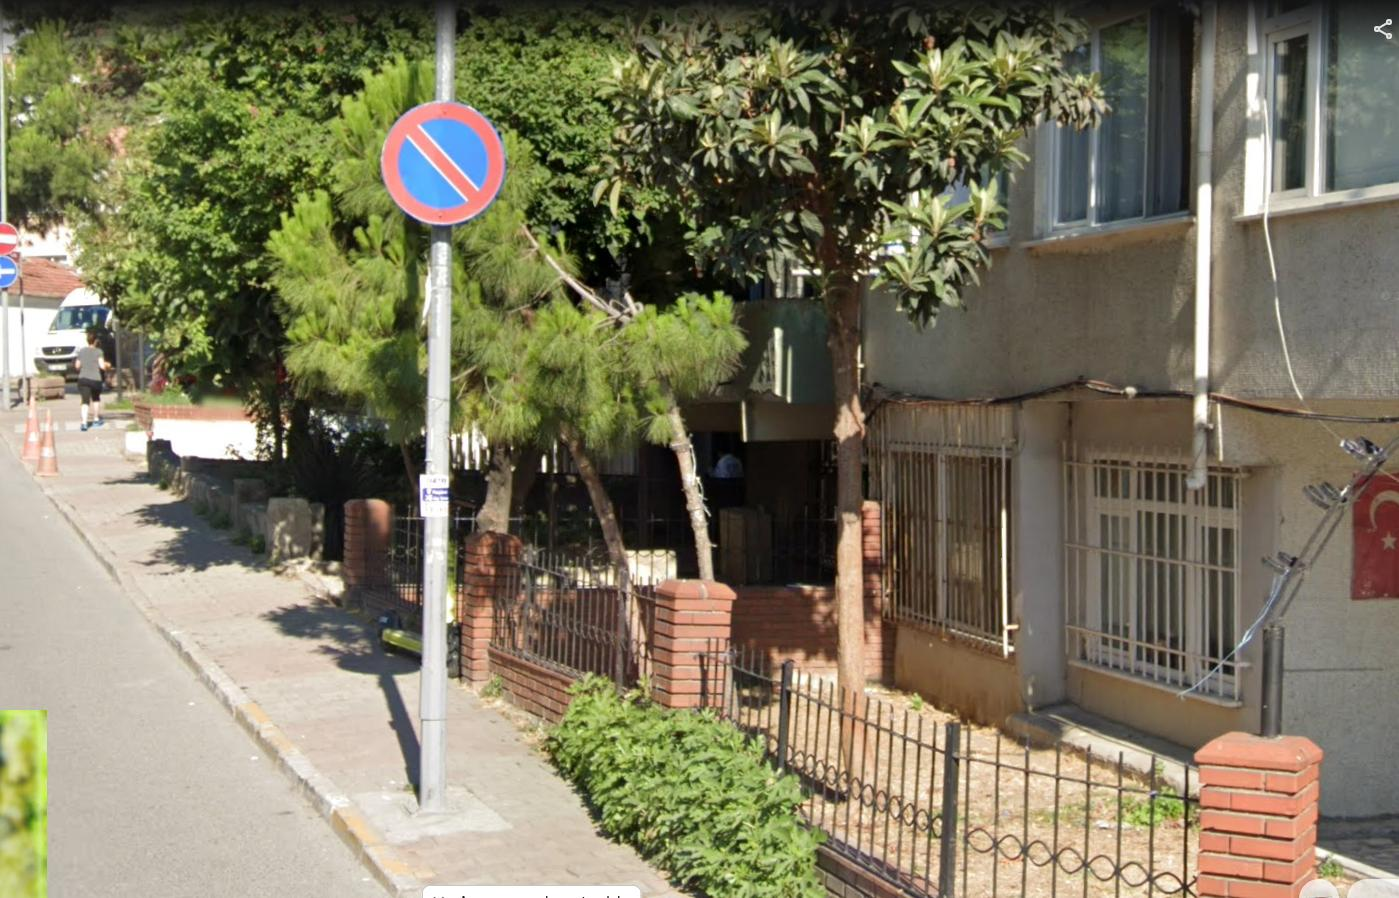nopark: (382, 102, 501, 226)
